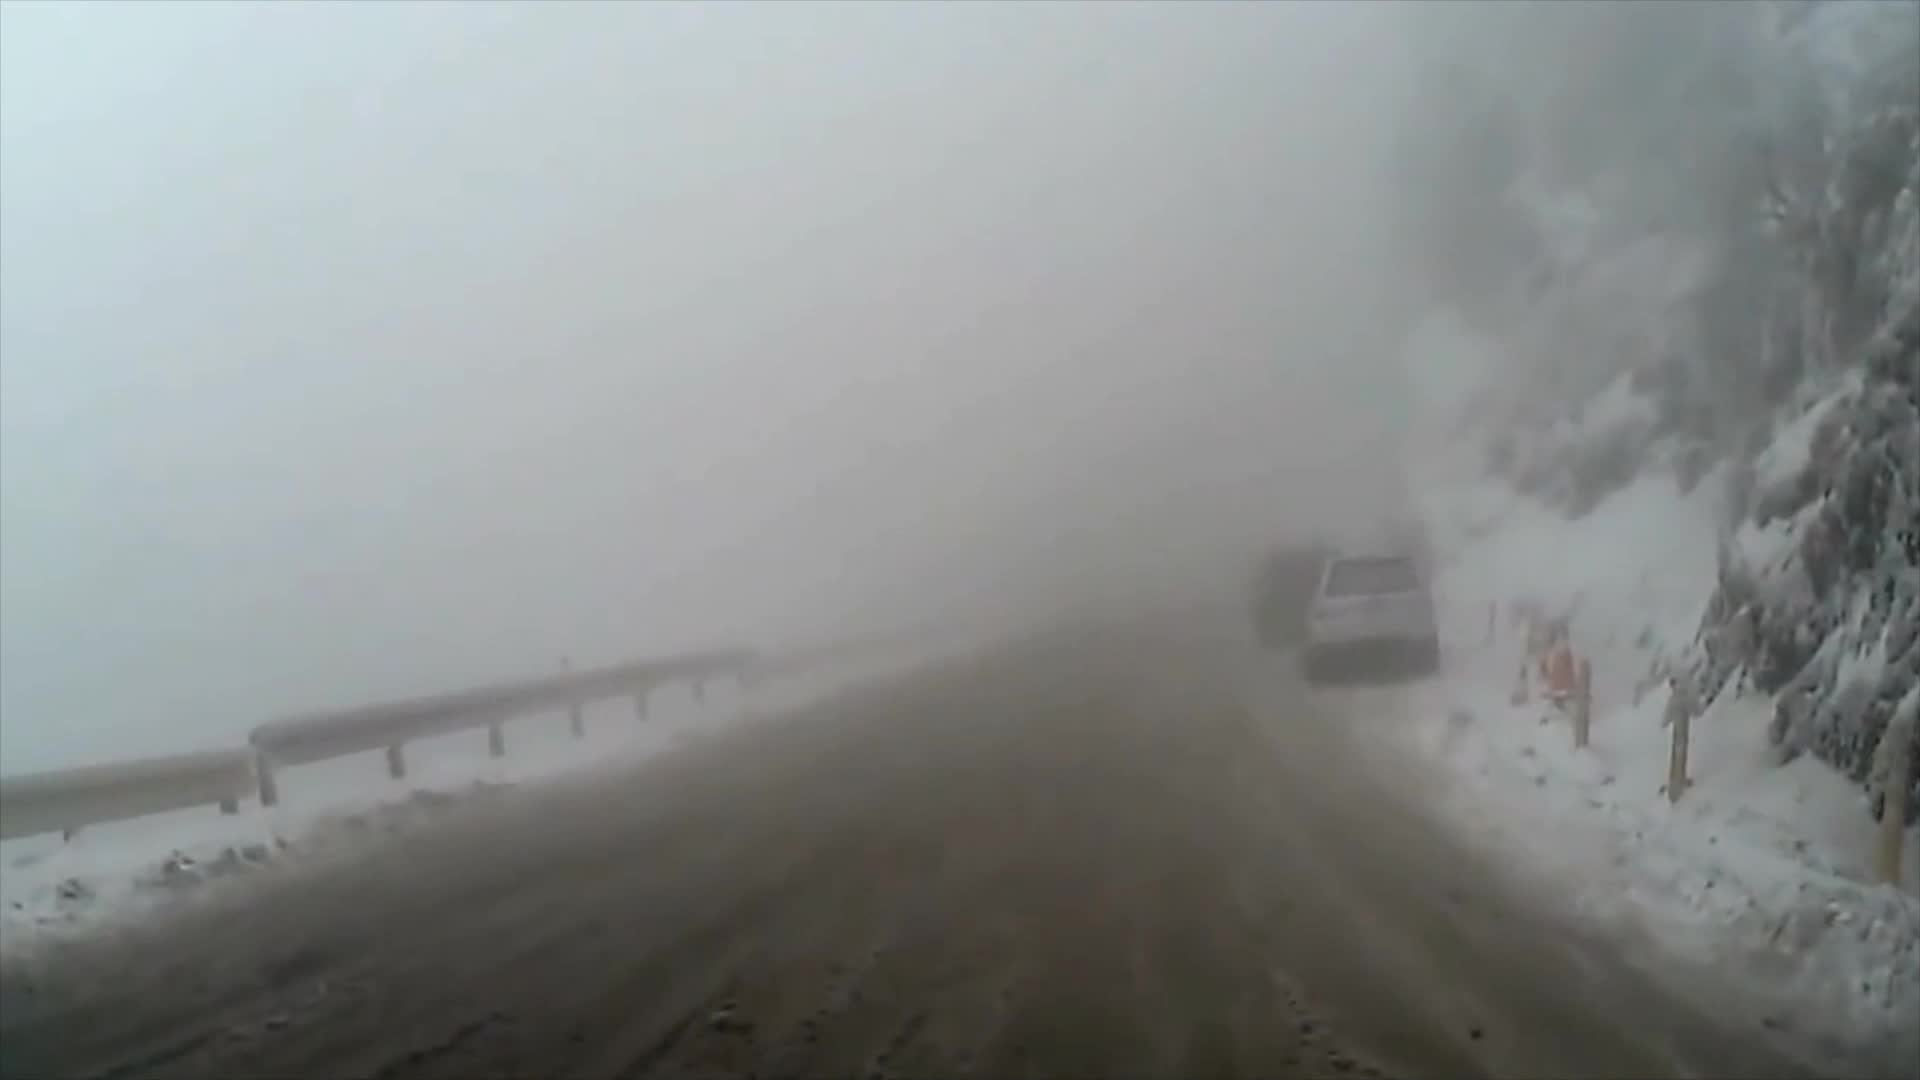vehicle: (1308, 545, 1441, 680), (1244, 541, 1357, 654)
